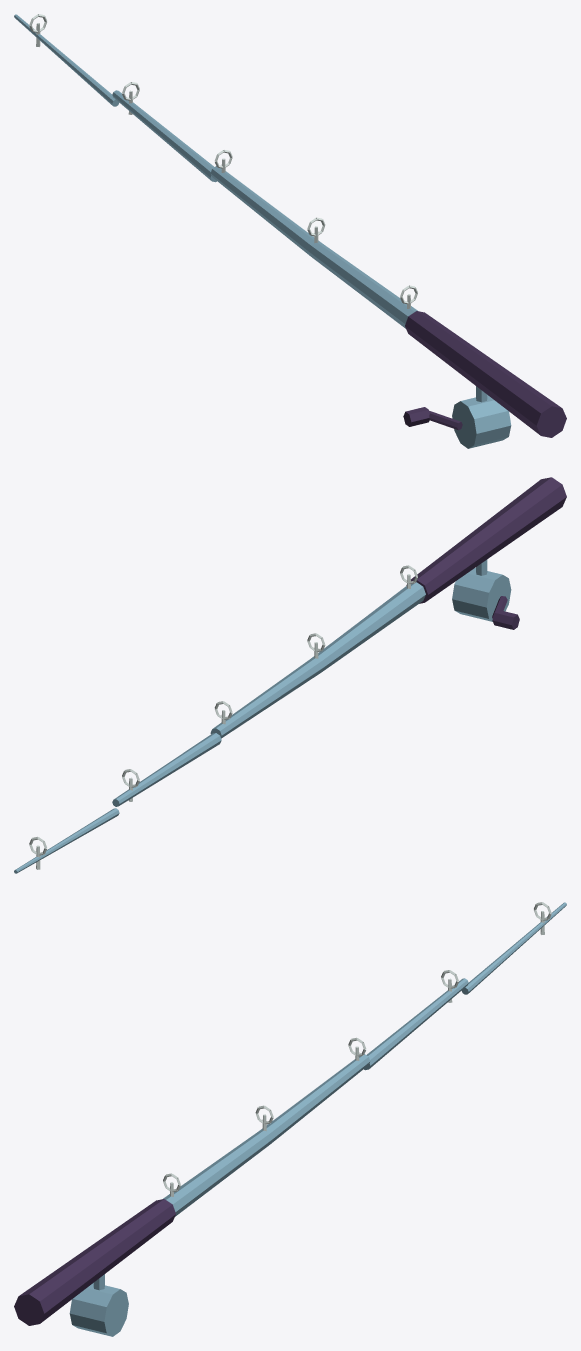
Rendered from CrabRod.fbx.
3 renders of one model, top to bottom at view 1: azimuth 30°, elevation 25°; view 2: azimuth 150°, elevation 25°; view 3: azimuth 330°, elevation 25°, orthographic.
Parts seen in each view (by area): view 1: Handle, RodSection0, ReelSpool, RodSection1, RodSection2, RodSection3; view 2: Handle, RodSection0, ReelSpool, RodSection1, RodSection2, RodSection3; view 3: Handle, ReelSpool, RodSection0, RodSection1, RodSection2, RodSection3.
Part boxes in pixels (box(x1,y1,x2,y2)): Handle: box(405, 311, 566, 437); RodSection0: box(308, 242, 418, 328); ReelSpool: box(452, 395, 511, 448); RodSection1: box(210, 166, 321, 256); RodSection2: box(112, 90, 216, 182); RodSection3: box(14, 14, 119, 106); Handle: box(406, 477, 566, 603); RodSection0: box(311, 582, 425, 671); ReelSpool: box(452, 568, 511, 621); RodSection1: box(210, 658, 323, 738); RodSection2: box(112, 733, 221, 806); RodSection3: box(14, 808, 119, 873); Handle: box(14, 1199, 175, 1325); ReelSpool: box(69, 1283, 128, 1336); RodSection0: box(162, 1130, 272, 1216); RodSection1: box(259, 1054, 370, 1144); RodSection2: box(364, 978, 468, 1070); RodSection3: box(461, 902, 566, 994).
Size of the model in its own units: 0.165 by 0.2274 by 2.14.
